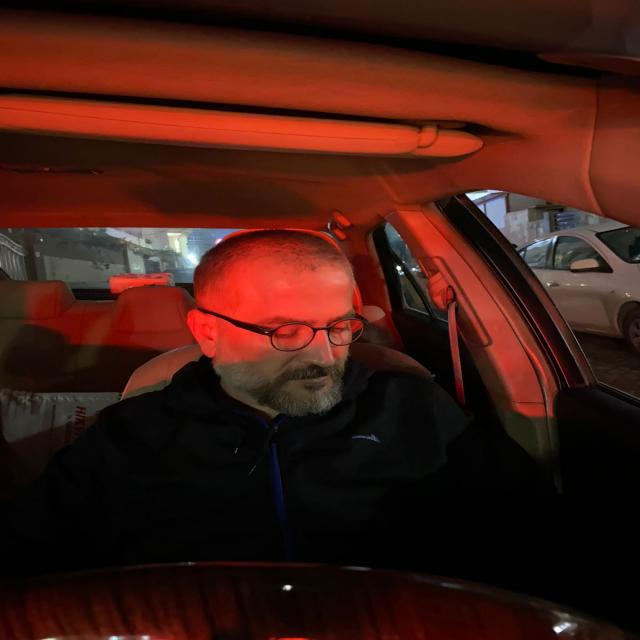drowsy: (176, 226, 371, 432)
